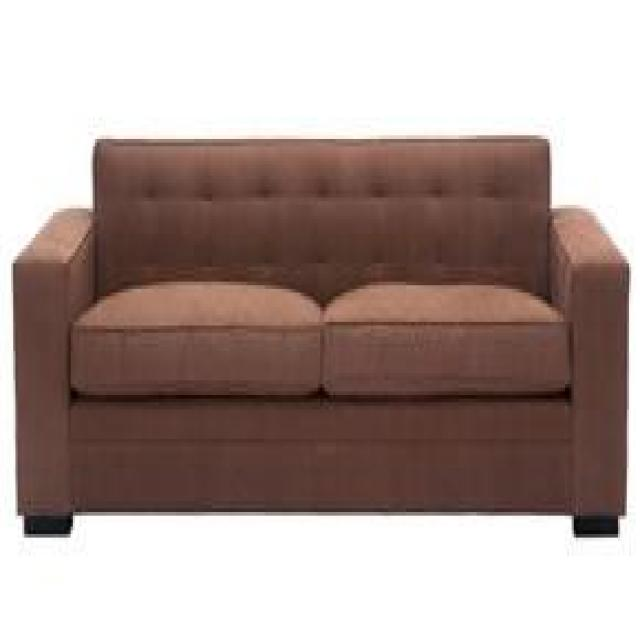sofa: (11, 127, 631, 543)
